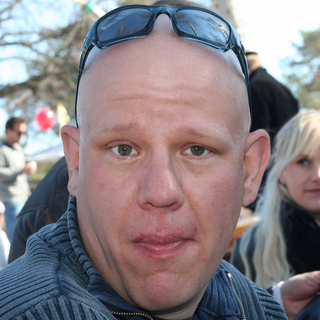eye: (173, 139, 223, 164), (103, 139, 147, 162)
